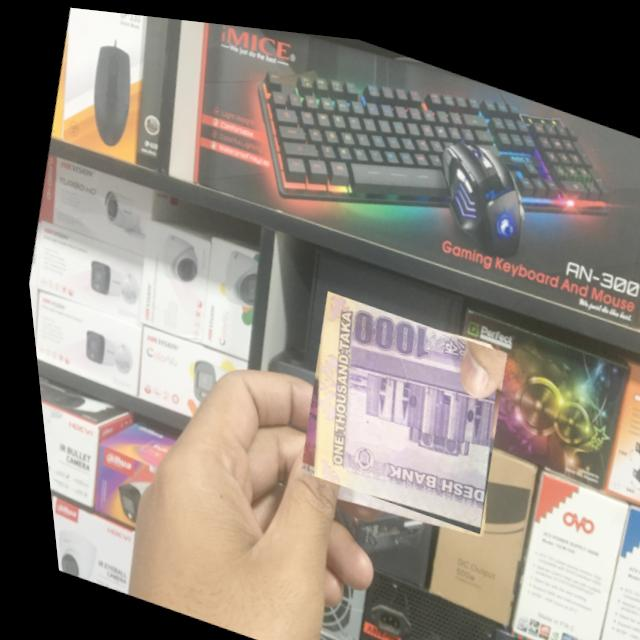Taka: (276, 280, 515, 528)
